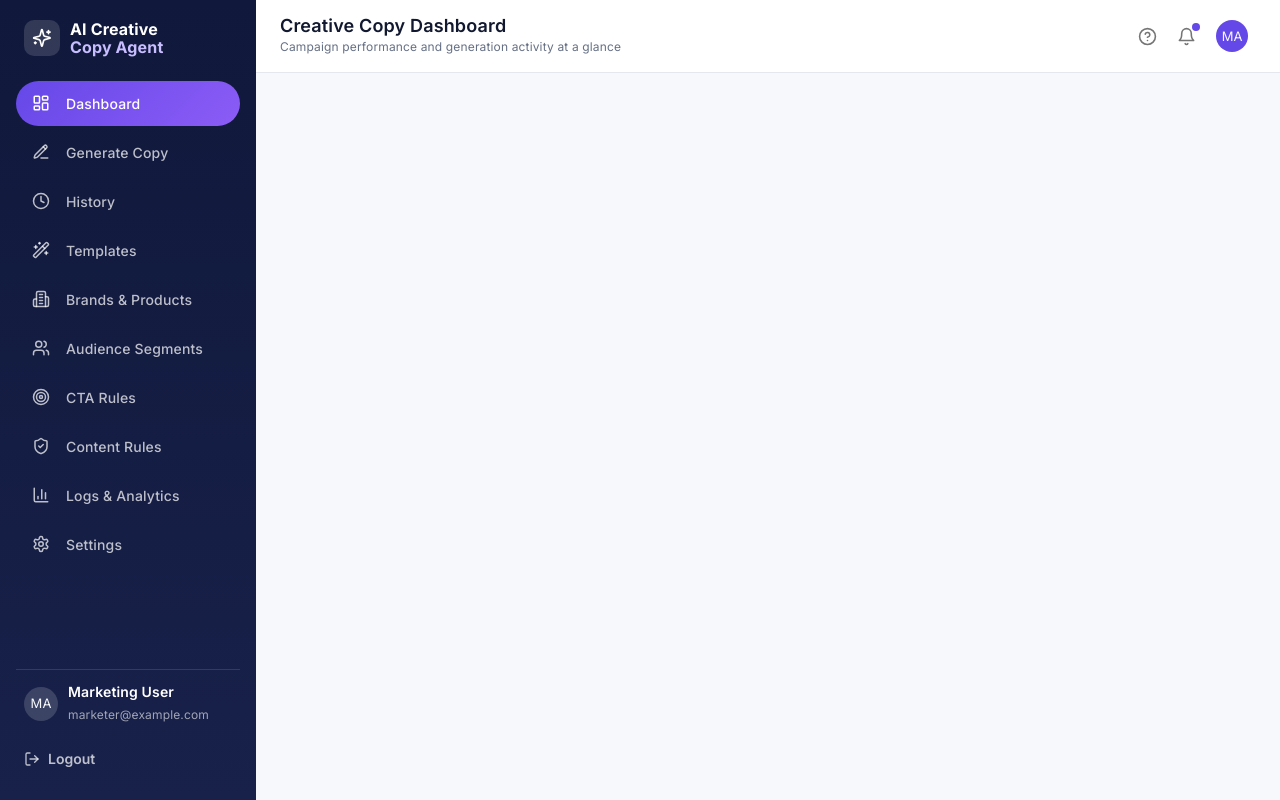
Test: AppLayout › exposes the account menu with a logout action
Click the button with aria-label "open account menu": coordinates (1232, 36) [1208,12,1256,60]
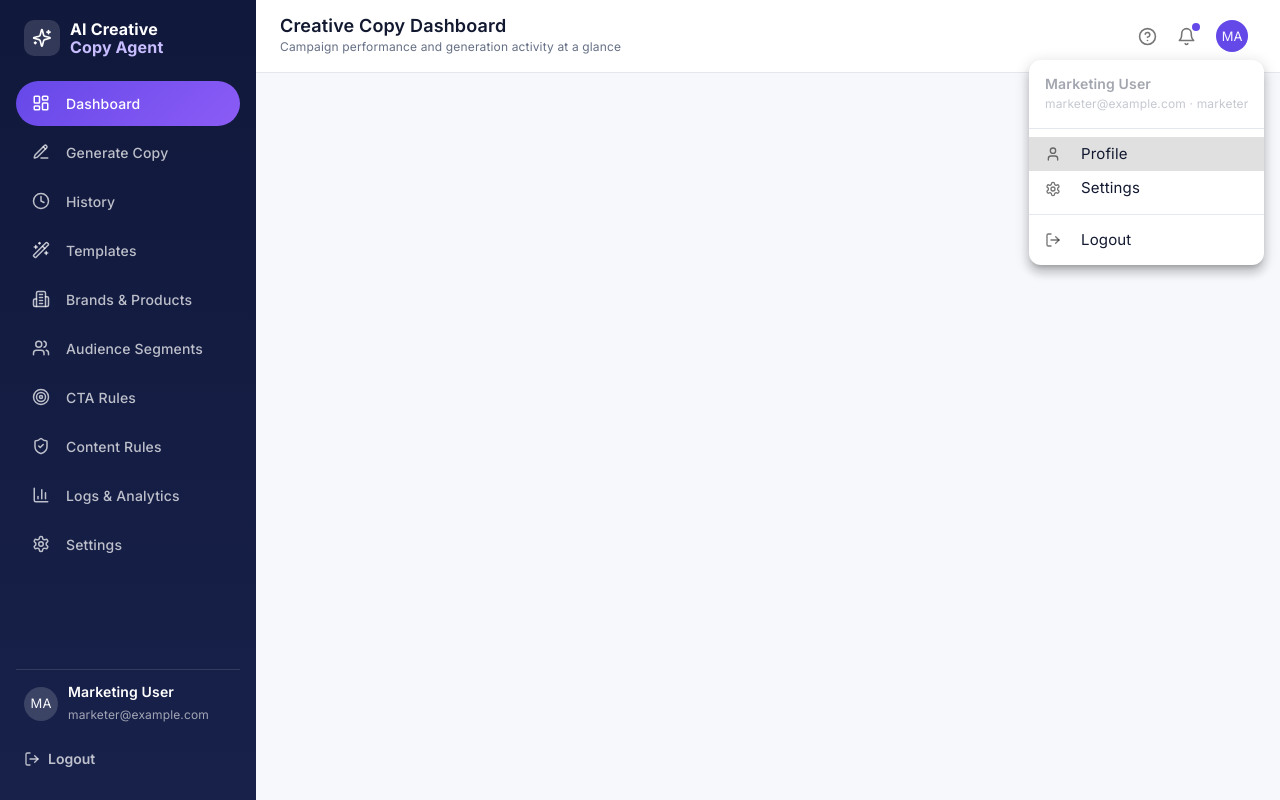
Expected: the text "marketer@example.com" is shown, [68,707,209,722]
Result: the menu item "Logout" is shown at [1045,230,1131,249]
